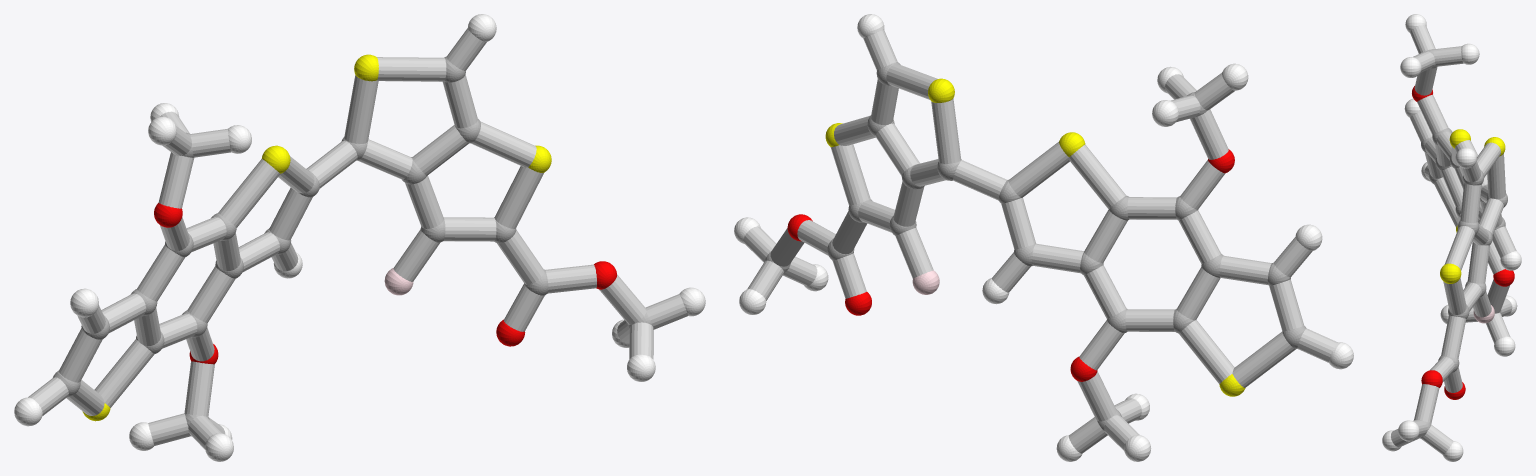
The model's file is color.glb.
3 views of the same model, side by side, from view 1: azimuth 30°, elevation 25°; view 2: azimuth 150°, elevation 25°; view 3: azimuth 270°, elevation 25° (orthographic). The views are drawn at different scales.
Visible parts, largest first — view 1: grp15205, grp8689, grp1, grp7241, grp13395; view 2: grp15205, grp8689, grp1, grp13395, grp7241; view 3: grp15205, grp8689, grp1, grp13395, grp7241, grp14843.
Boxes of the visible parts, <box> form: grp15205: <box>28,28,688,449</box>; grp8689: <box>14,14,705,461</box>; grp1: <box>53,56,651,436</box>; grp7241: <box>82,54,551,421</box>; grp13395: <box>154,203,616,364</box>; grp15205: <box>743,30,1337,453</box>; grp8689: <box>734,14,1353,461</box>; grp1: <box>765,62,1306,430</box>; grp13395: <box>787,149,1234,381</box>; grp7241: <box>825,78,1245,396</box>; grp15205: <box>1391,25,1516,454</box>; grp8689: <box>1382,14,1521,461</box>; grp1: <box>1414,49,1507,438</box>; grp13395: <box>1412,86,1514,399</box>; grp7241: <box>1440,129,1505,283</box>; grp14843: <box>1473,305,1494,323</box>.
Size of the model in its own units: 16.07 by 9.27 by 3.92.
